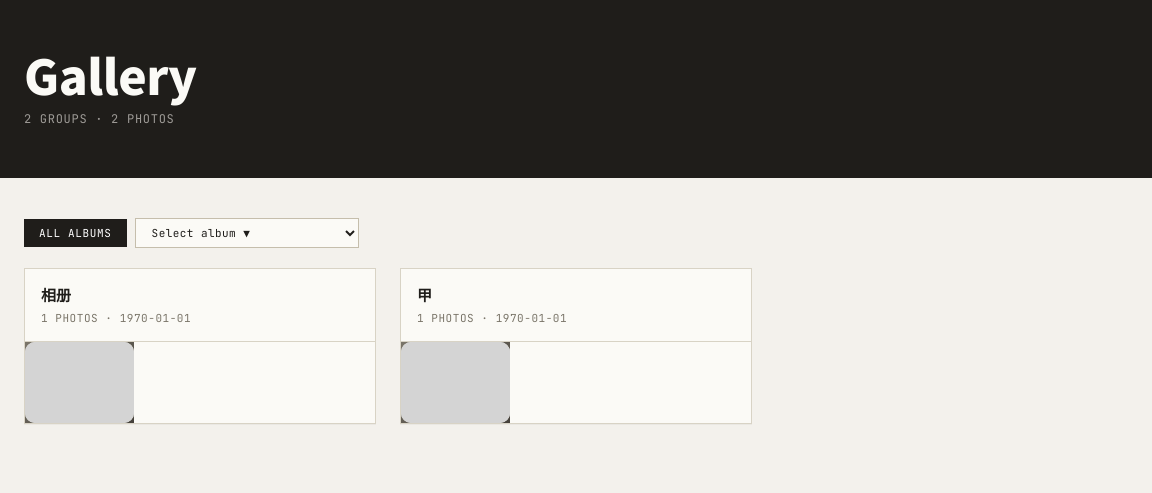
<Gallery /> › dropdown selection narrows to a single group
Expected: the button "甲" is shown, x1=417 y1=285 x2=432 y2=305
Select "甲 · 1 photos" in the dropdown named "Filter by album": (247, 233) x1=135 y1=218 x2=359 y2=248
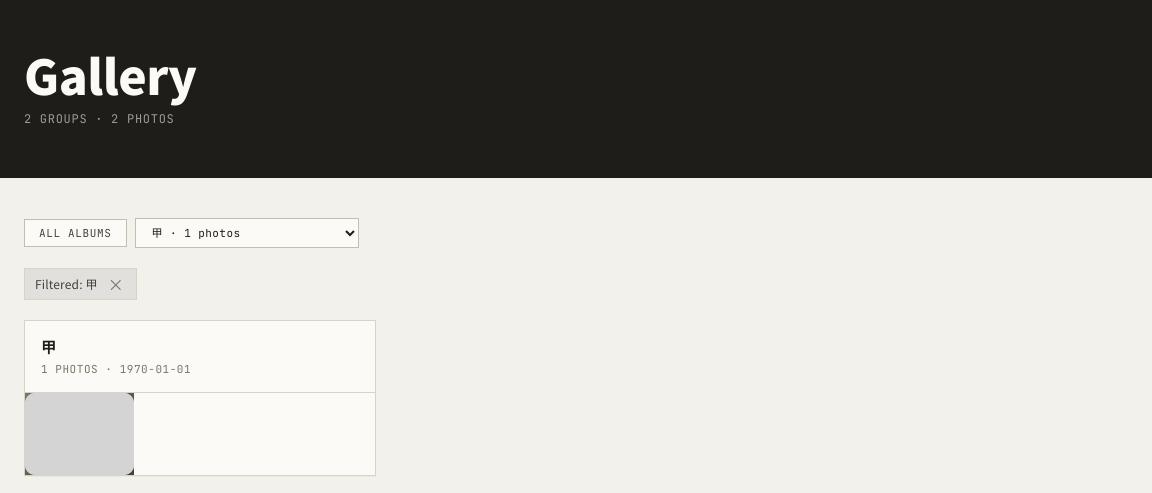
Expected: the button "甲" is shown, x1=41 y1=337 x2=56 y2=356
Expected: the button "相册" is gone
